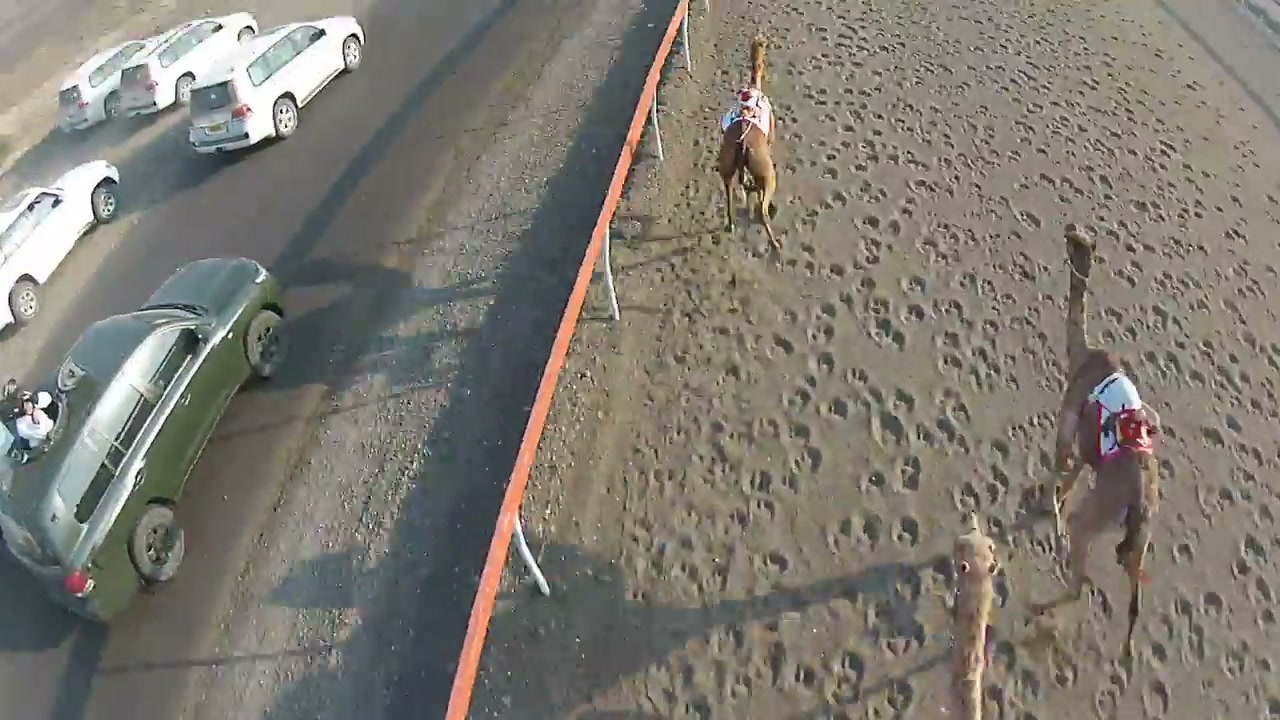animal_foot_print: (481, 0, 1279, 719)
